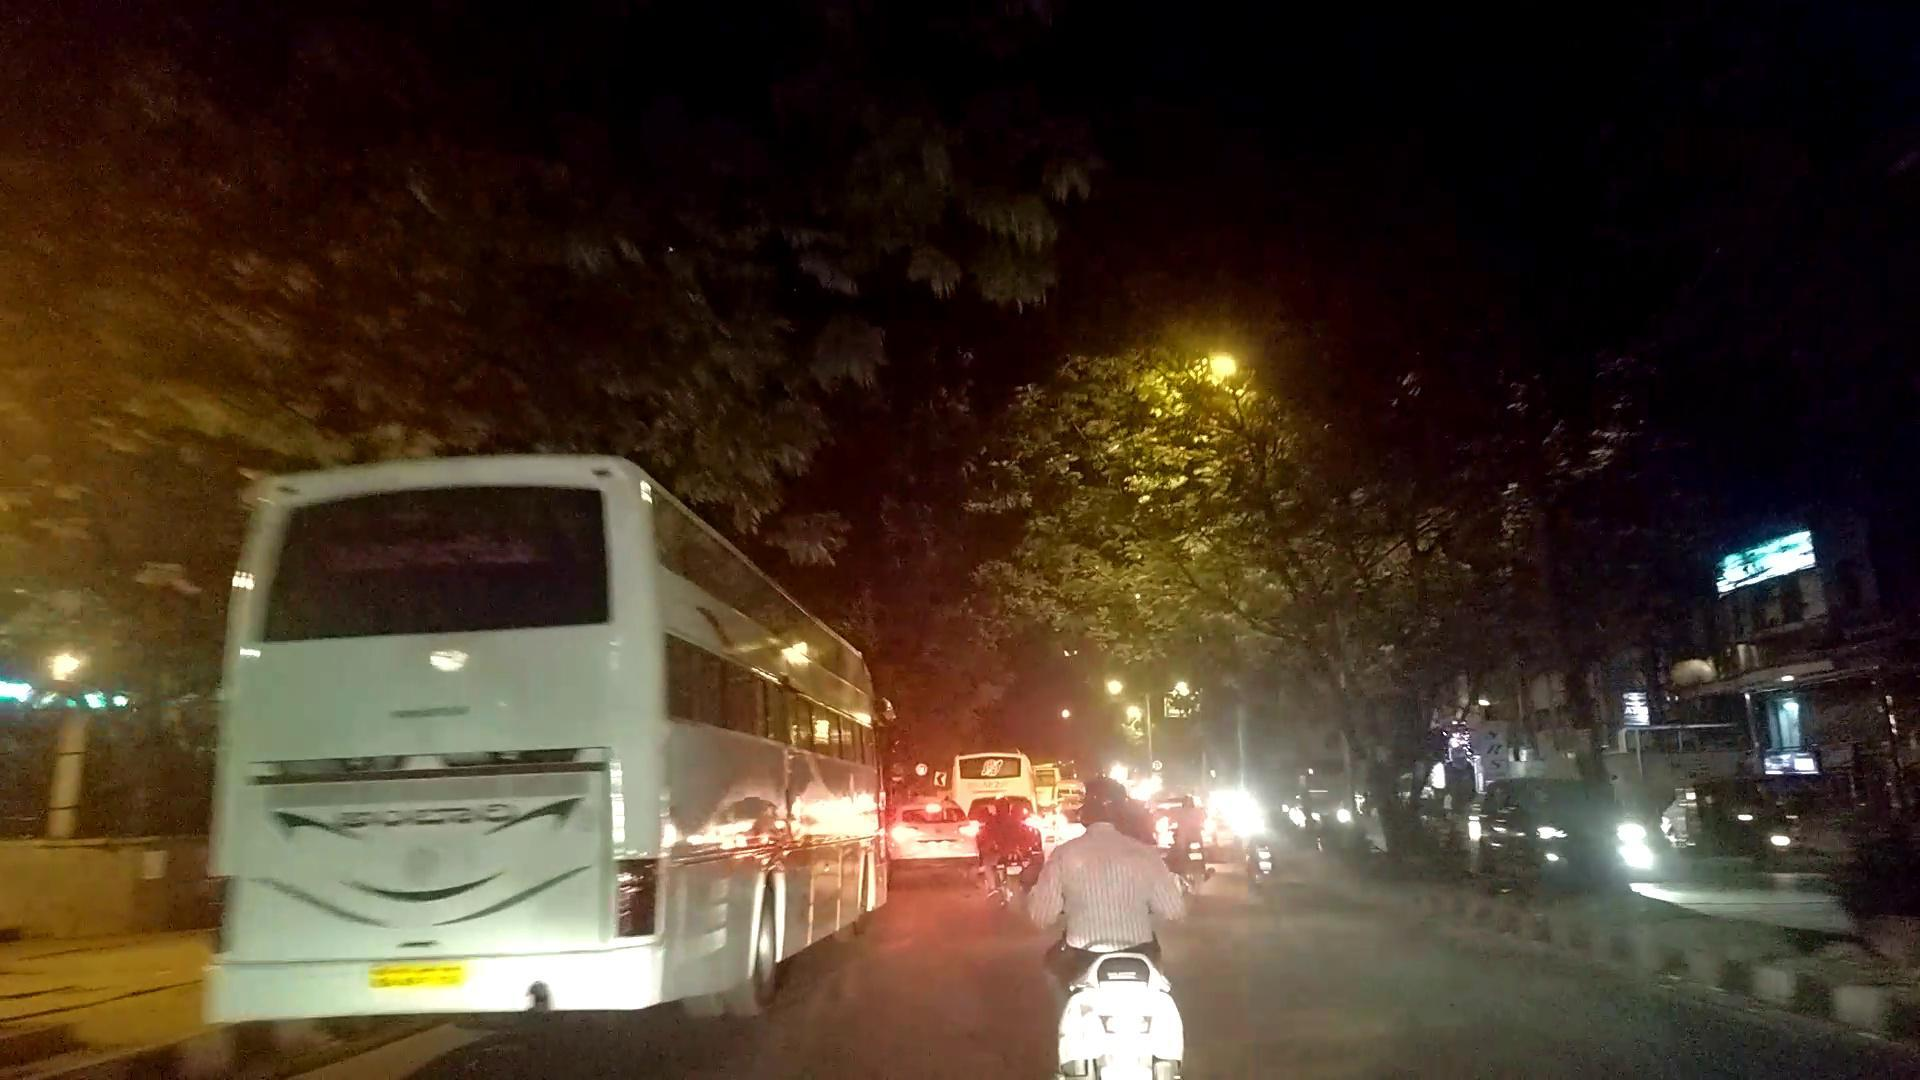on: (70, 0, 1920, 1080)
